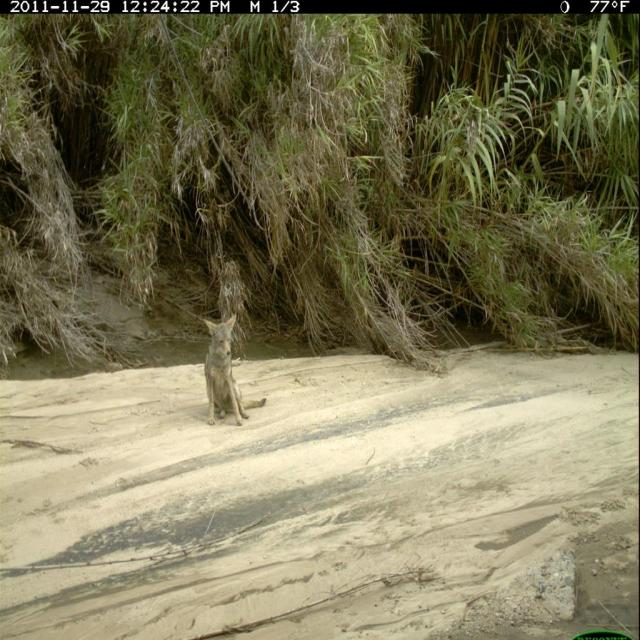coyote: (198, 304, 275, 436)
